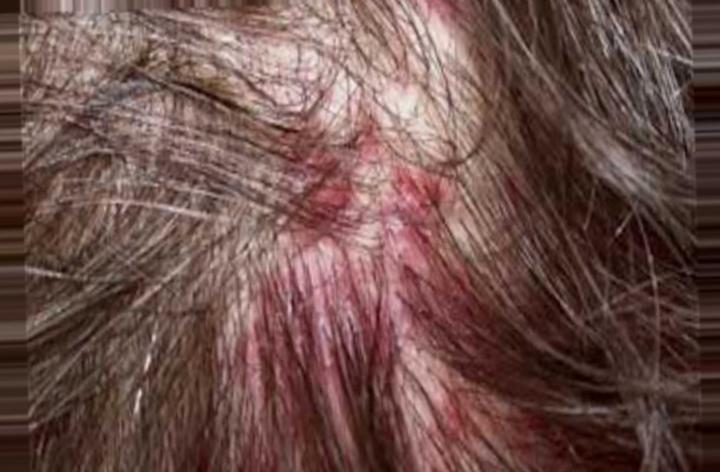Folliculitis: (259, 104, 470, 256)
